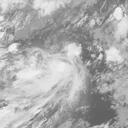cyclone: (27, 52, 79, 100)
